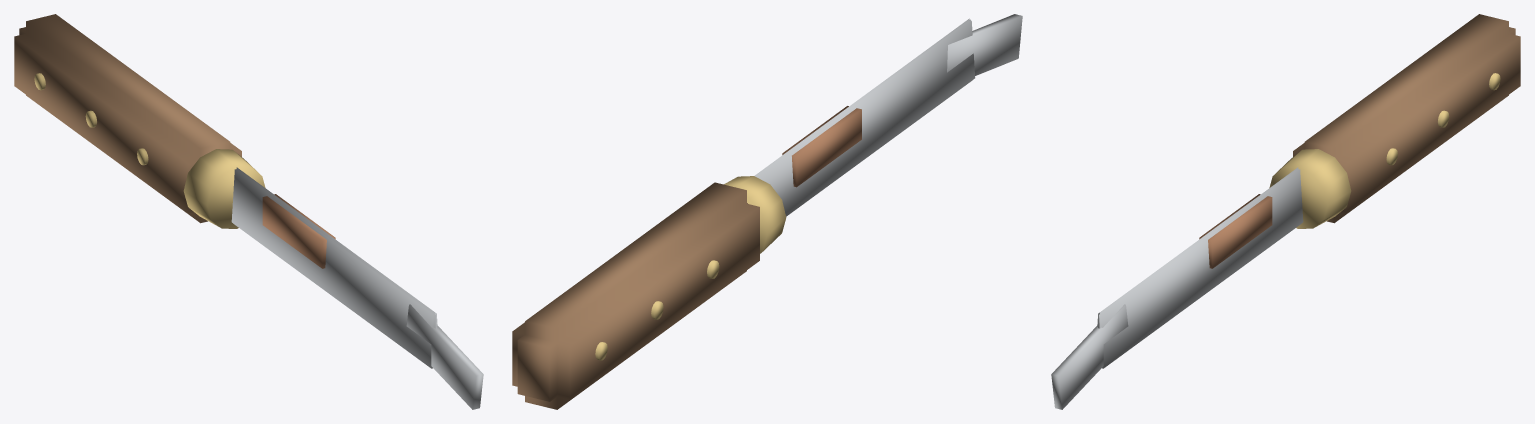
The model's file is peeler-knife.glb.
The picture shows the model from 3 angles, left to right: view 1: azimuth 30°, elevation 25°; view 2: azimuth 150°, elevation 25°; view 3: azimuth 330°, elevation 25°; orthographic projection. The views are drawn at different scales.
Parts seen in each view (by area): view 1: Knife_Body; view 2: Knife_Body; view 3: Knife_Body.
Part boxes in pixels (x1=…): Knife_Body: x1=14, y1=14, x2=483, y2=409; Knife_Body: x1=512, y1=14, x2=1022, y2=409; Knife_Body: x1=1051, y1=14, x2=1520, y2=409.
Bounding box in the file's own units: 0.044 × 0.048 × 0.5215.
